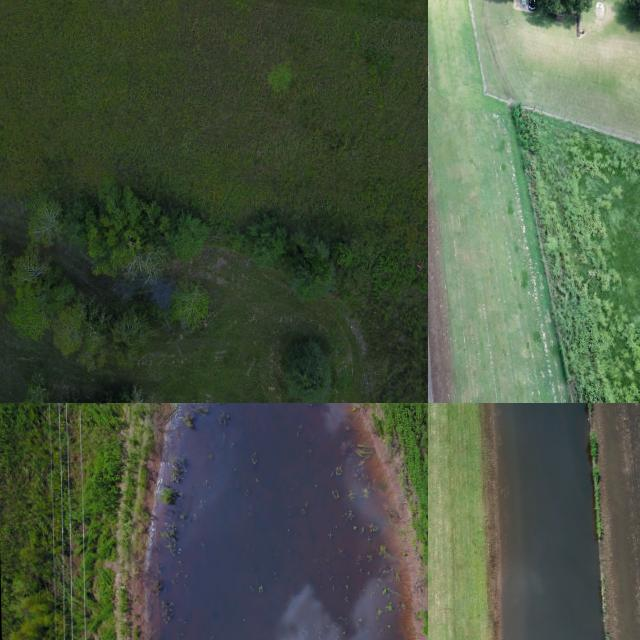fire: (146, 403, 410, 640), (493, 403, 605, 640)
